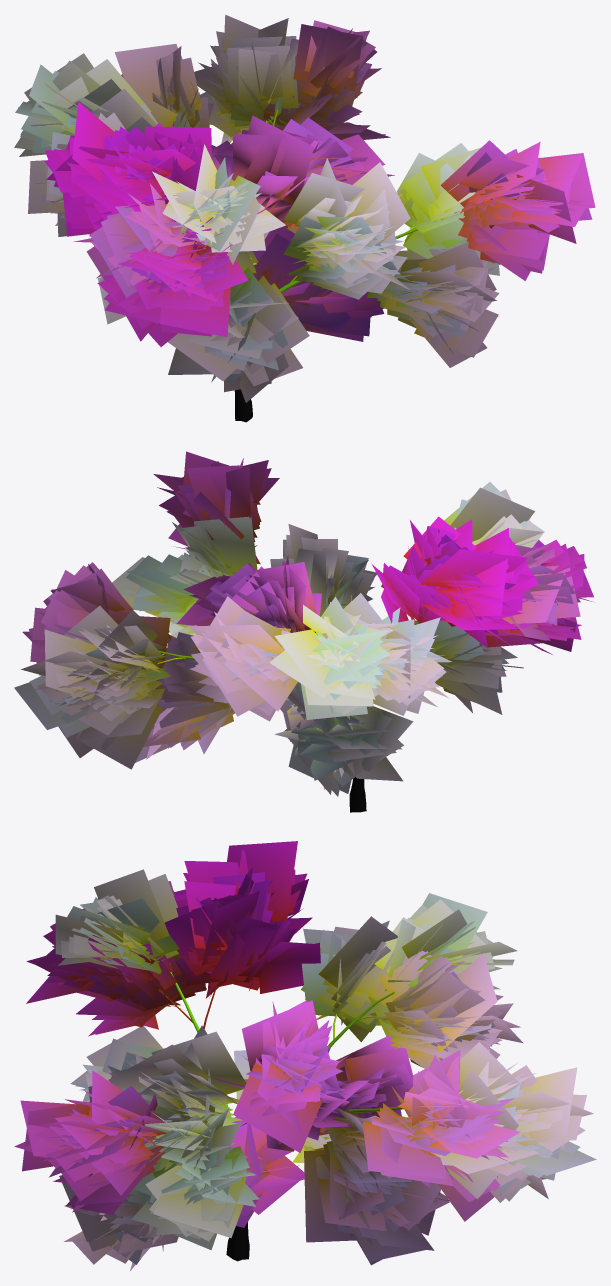
The model's file is tree_cherry_b_green.glb.
3 renders of one model, top to bottom at view 1: azimuth 30°, elevation 25°; view 2: azimuth 150°, elevation 25°; view 3: azimuth 270°, elevation 25°, orthographic. The views are drawn at different scales.
Parts seen in each view (by area): view 1: tree_cherry_b_green; view 2: tree_cherry_b_green; view 3: tree_cherry_b_green.
Boxes of the visible parts, <box> form: tree_cherry_b_green: <box>14,14,595,422</box>; tree_cherry_b_green: <box>14,451,593,812</box>; tree_cherry_b_green: <box>14,841,596,1270</box>.
Bounding box in the file's own units: 13.24 × 8.83 × 13.47.
